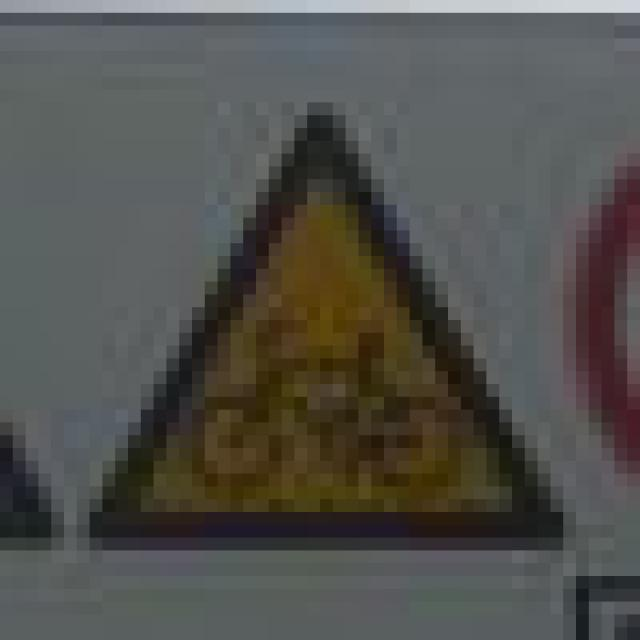CYCLE_CROSSING: (90, 102, 550, 550)
